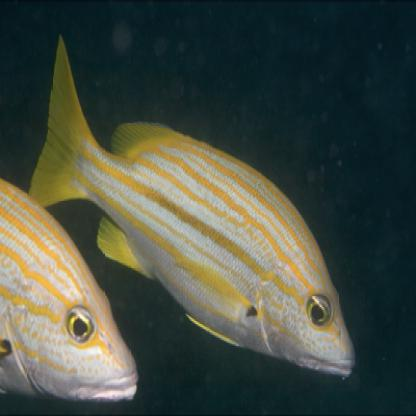snapper: (21, 29, 362, 383)
